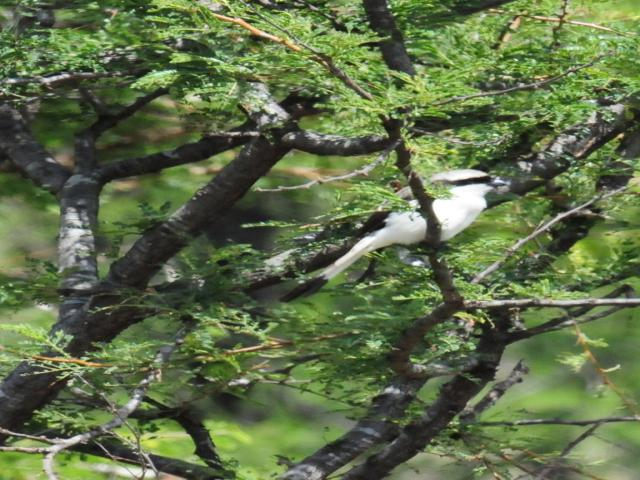Bird: (282, 166, 508, 298)
